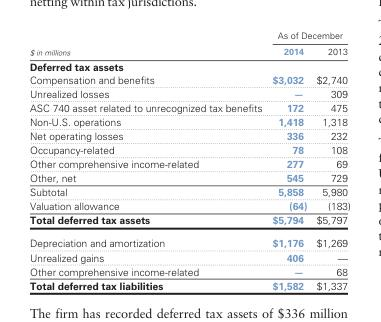table: (28, 29, 349, 291)
table column: (28, 29, 266, 291), (266, 29, 311, 291), (311, 29, 349, 291)
table column header: (28, 29, 349, 58)
table projected row header: (28, 58, 349, 73)
table row: (28, 212, 349, 231), (28, 231, 349, 249), (28, 42, 349, 58), (28, 58, 349, 73), (28, 86, 349, 100), (28, 100, 349, 114), (28, 114, 349, 128), (28, 128, 349, 142), (28, 142, 349, 156), (28, 156, 349, 170), (28, 170, 349, 184), (28, 184, 349, 198), (28, 198, 349, 212), (28, 249, 349, 263), (28, 263, 349, 277), (28, 277, 349, 291), (28, 29, 349, 42), (28, 73, 349, 86)
table spanning cell: (28, 29, 266, 58), (266, 29, 349, 42)
